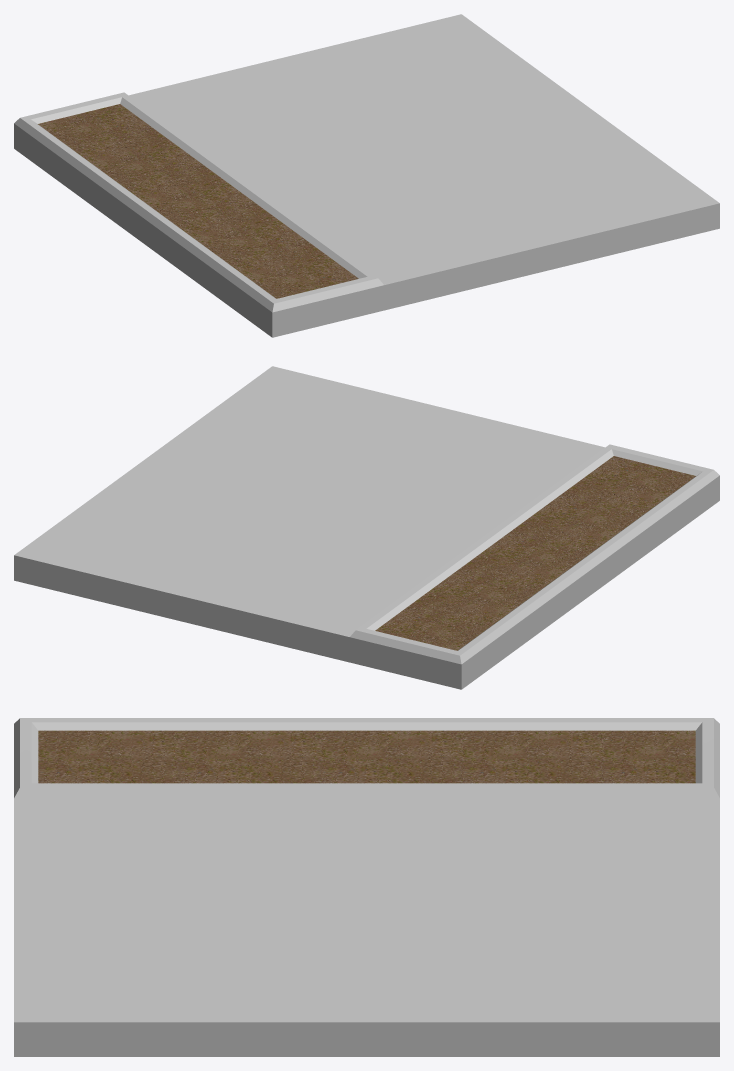
Rendered from Path_B.fbx.
The picture shows the model from 3 angles, top to bottom: view 1: azimuth 30°, elevation 25°; view 2: azimuth 150°, elevation 25°; view 3: azimuth 270°, elevation 25°; orthographic projection. The views are drawn at different scales.
Parts seen in each view (by area): view 1: Path_B; view 2: Path_B; view 3: Path_B.
Boxes of the visible parts, <box> form: Path_B: <box>14,14,719,337</box>; Path_B: <box>14,366,719,689</box>; Path_B: <box>14,718,719,1056</box>.
Size of the model in its own units: 1000 by 67.41 by 1000.
